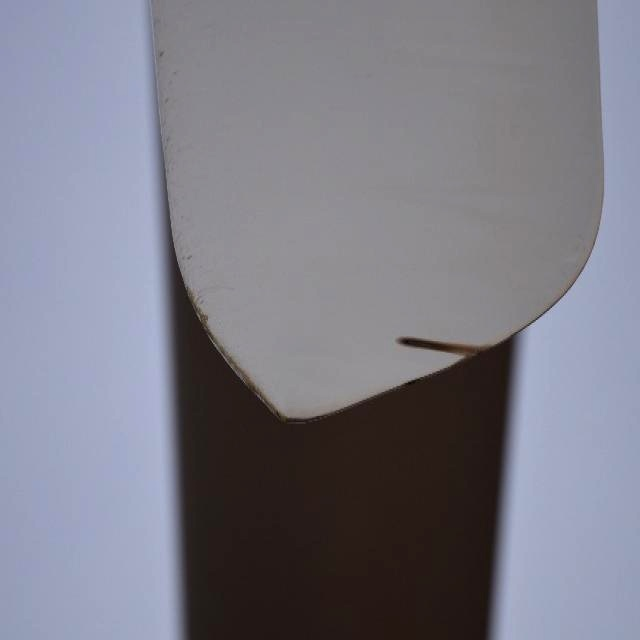Burn Mark: (392, 330, 485, 360)
Crack: (294, 408, 332, 431)
EROSION: (180, 295, 280, 432)
